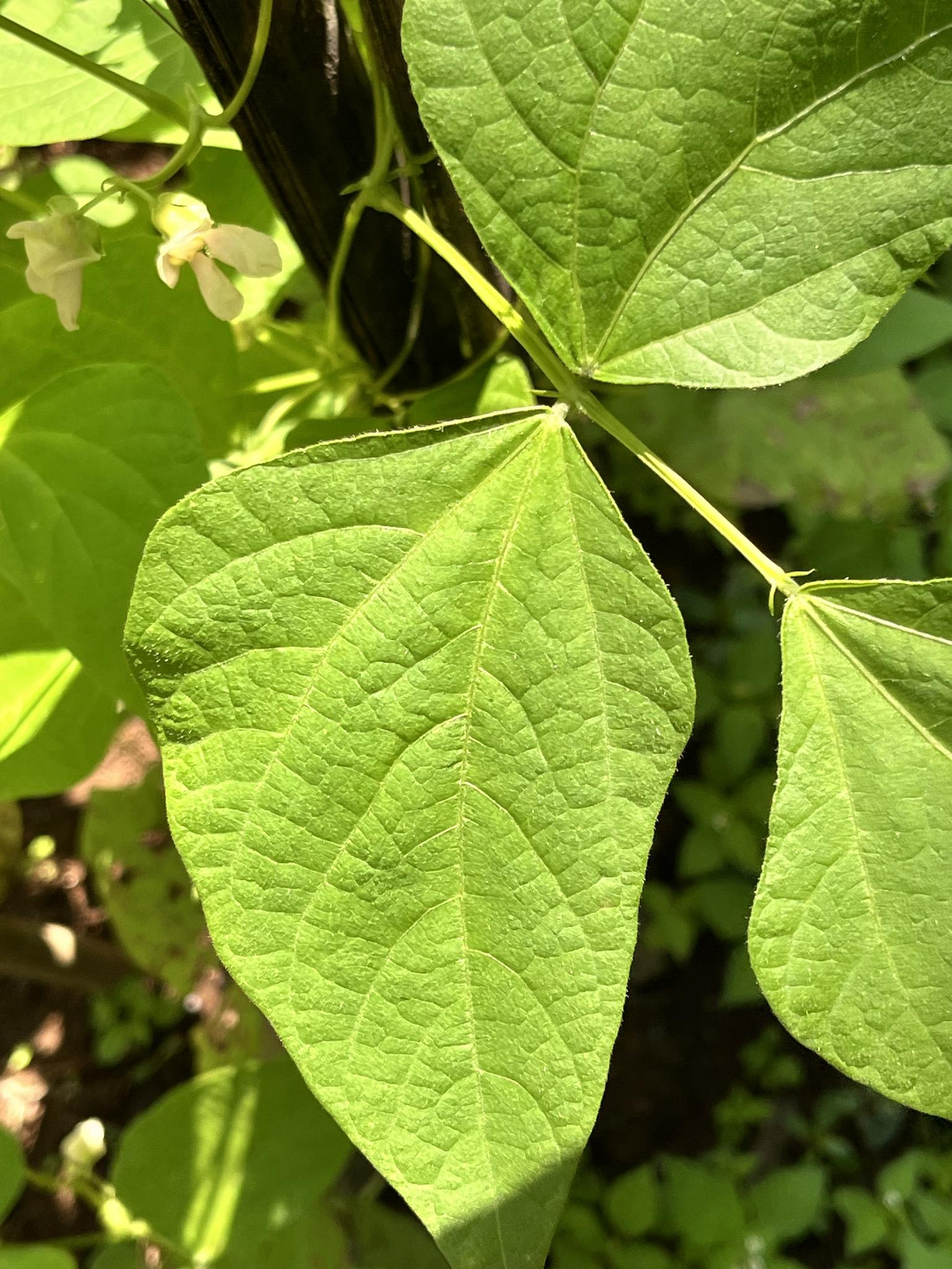sehat: (135, 416, 704, 1269)
